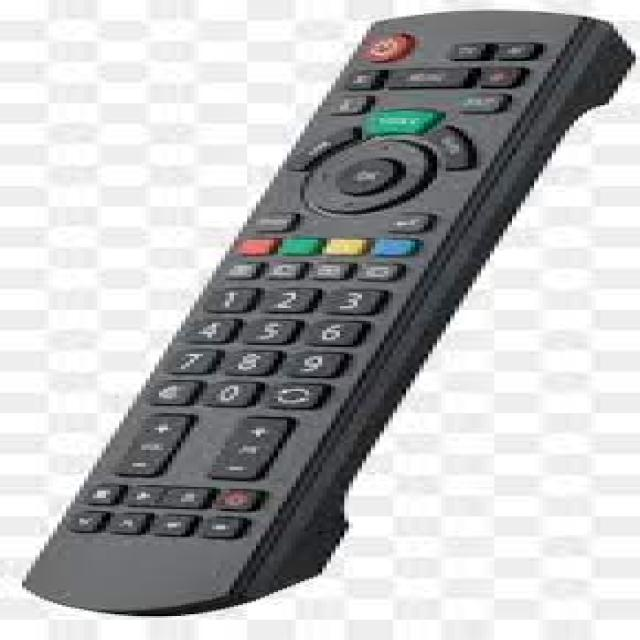remote: (18, 7, 640, 625)
